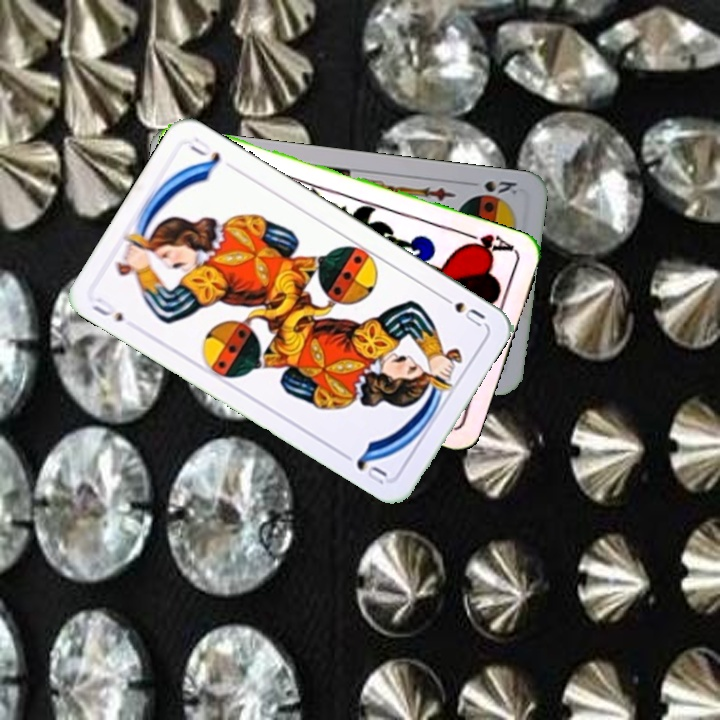HA: (459, 228, 517, 258)
SK: (480, 176, 522, 197)
SU: (435, 290, 488, 330), (88, 293, 126, 325)
